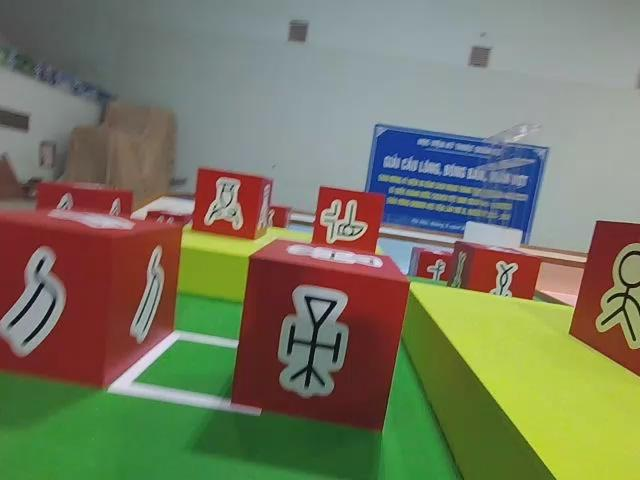R2 Real: (233, 237, 412, 433), (0, 211, 181, 391), (569, 218, 640, 377), (195, 167, 273, 241), (451, 241, 541, 303), (311, 185, 385, 258)
